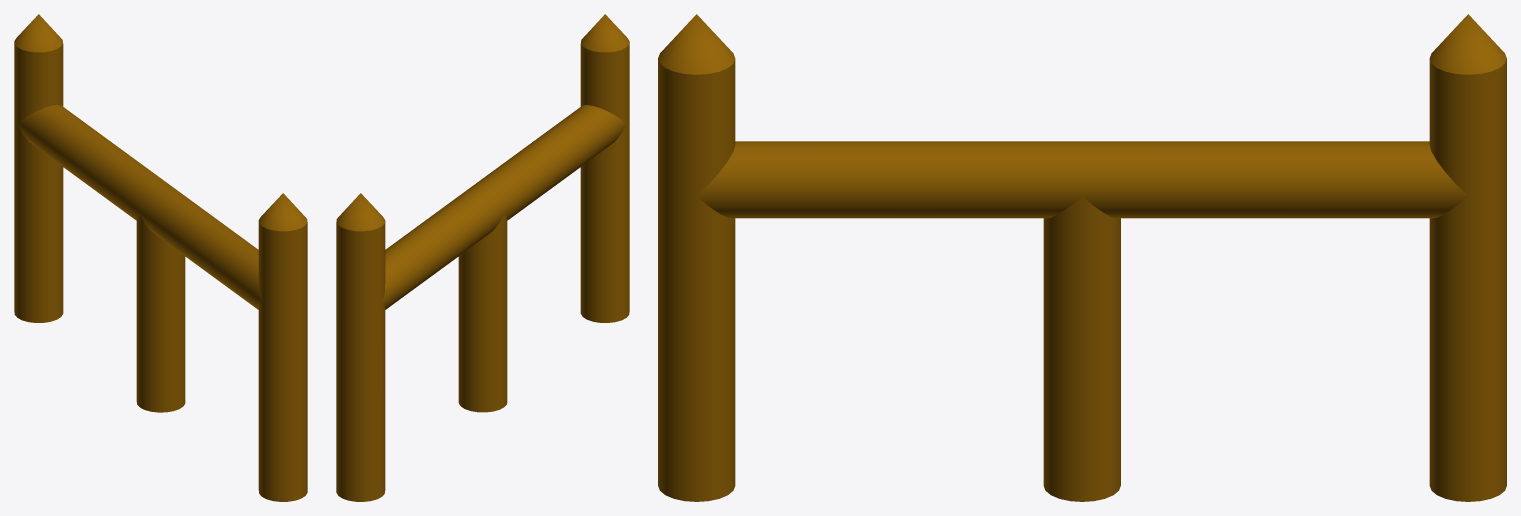
The model's file is kousin_komono_1.fbx.
3 renders of one model, left to right at view 1: azimuth 30°, elevation 25°; view 2: azimuth 150°, elevation 25°; view 3: azimuth 270°, elevation 25°, orthographic. The views are drawn at different scales.
Parts seen in each view (by area): view 1: pasted__pCylinder13, pasted__pCylinder17, pasted__pCylinder15, pasted__pCylinder19; view 2: pasted__pCylinder15, pasted__pCylinder17, pasted__pCylinder13, pasted__pCylinder19; view 3: pasted__pCylinder17, pasted__pCylinder13, pasted__pCylinder15, pasted__pCylinder19.
Part boxes in pixels (x1=…): pasted__pCylinder13: x1=258, y1=193, x2=307, y2=501; pasted__pCylinder17: x1=17, y1=105, x2=262, y2=309; pasted__pCylinder15: x1=14, y1=14, x2=63, y2=322; pasted__pCylinder19: x1=136, y1=214, x2=185, y2=412; pasted__pCylinder15: x1=336, y1=193, x2=385, y2=501; pasted__pCylinder17: x1=382, y1=105, x2=626, y2=309; pasted__pCylinder13: x1=580, y1=14, x2=629, y2=322; pasted__pCylinder19: x1=458, y1=214, x2=507, y2=412; pasted__pCylinder17: x1=696, y1=141, x2=1467, y2=218; pasted__pCylinder13: x1=658, y1=14, x2=735, y2=501; pasted__pCylinder15: x1=1429, y1=14, x2=1506, y2=501; pasted__pCylinder19: x1=1043, y1=196, x2=1120, y2=501.
Size of the model in its own units: 27.06 by 182 by 297.
